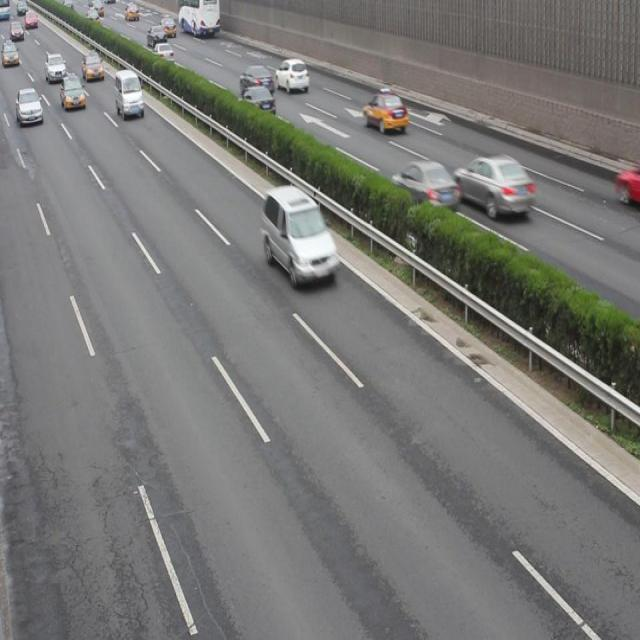car: (452, 154, 530, 218), (392, 160, 459, 210), (362, 91, 407, 133), (275, 58, 308, 93), (238, 87, 275, 117), (239, 67, 274, 98), (16, 88, 44, 126), (60, 74, 86, 110), (82, 52, 104, 81), (45, 52, 66, 81), (151, 42, 174, 66), (147, 27, 166, 49), (160, 18, 176, 38)
truck: (262, 187, 338, 285), (114, 71, 144, 119)
